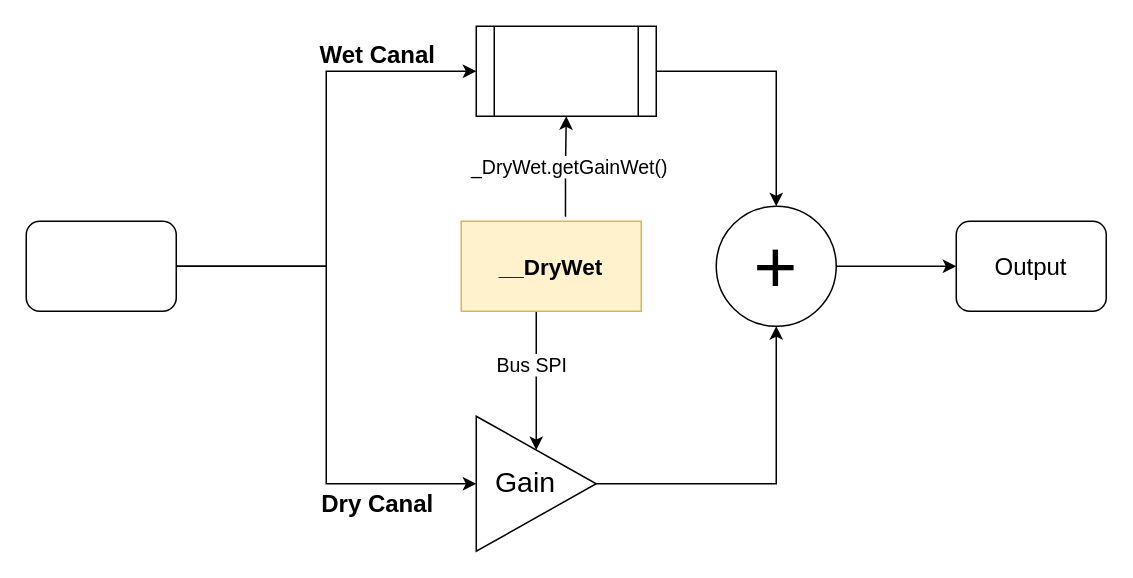
This 1133x578 diagram has some shape labels left out. Each missing label, with the box of its shape:
Digital Processing: (475, 25, 656, 116)
Input: (25, 220, 176, 311)
